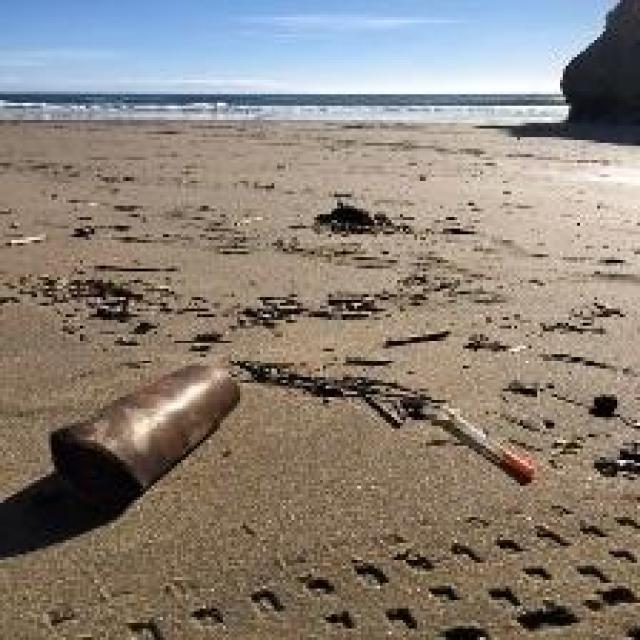syringe: (437, 391, 540, 484)
